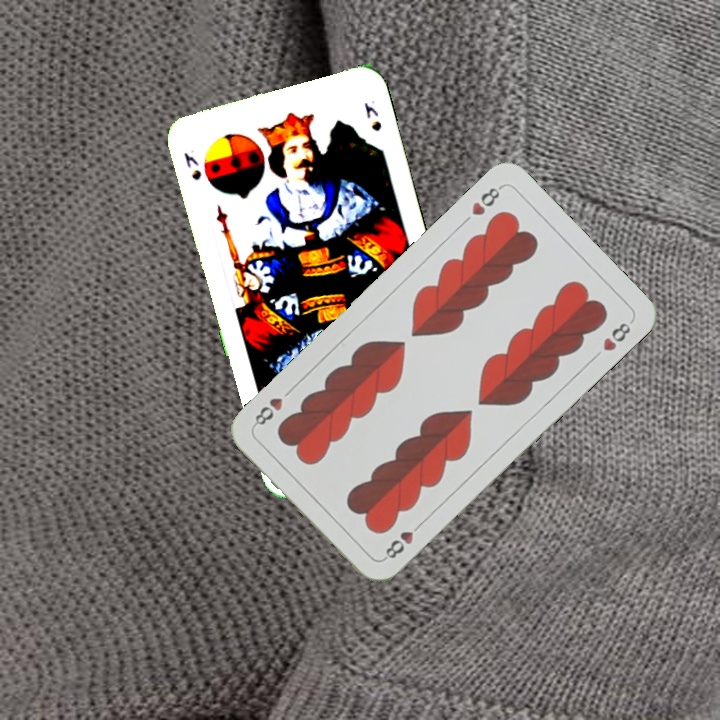H8: (379, 517, 426, 563), (467, 181, 505, 219)
SK: (180, 145, 205, 183)
